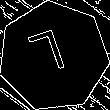L_S: (31, 28, 77, 85)
